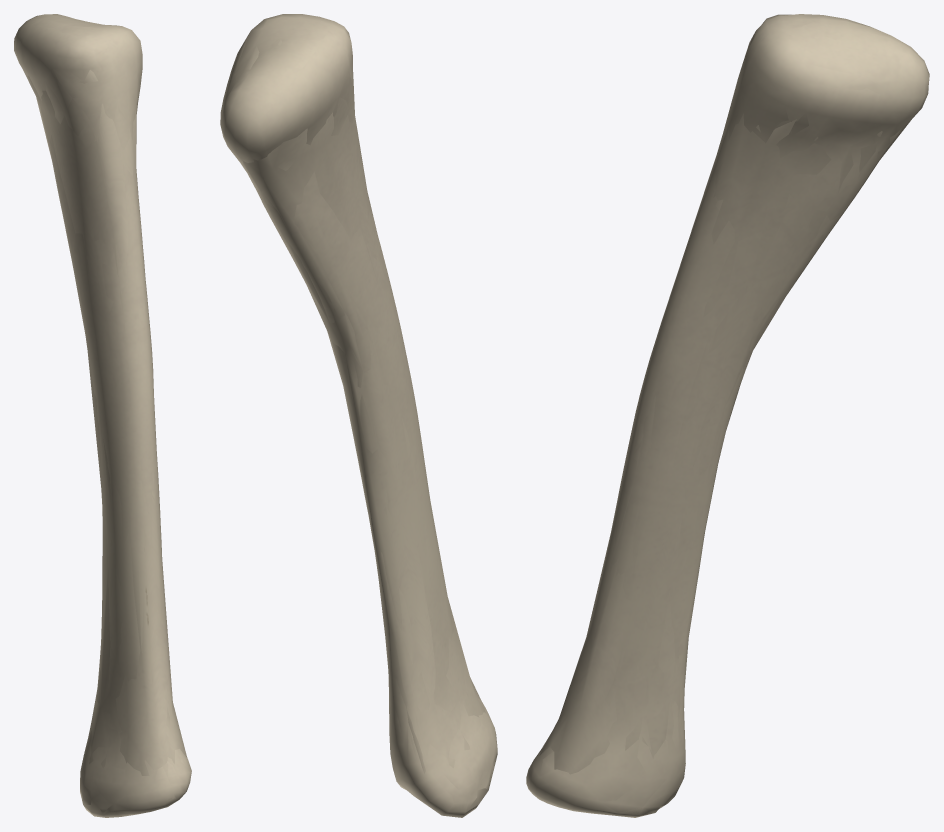
Rendered from R metacarpi tertium.fbx.
3 views of the same model, side by side, from view 1: azimuth 30°, elevation 25°; view 2: azimuth 150°, elevation 25°; view 3: azimuth 270°, elevation 25° (orthographic). The views are drawn at different scales.
Parts seen in each view (by area): view 1: R metacarpi tertium, R metacarpi tertium low, R metacarpi tertium high; view 2: R metacarpi tertium, R metacarpi tertium low, R metacarpi tertium high; view 3: R metacarpi tertium, R metacarpi tertium low, R metacarpi tertium high.
Part boxes in pixels (bbox=[...]): R metacarpi tertium: bbox=[14, 14, 191, 817]; R metacarpi tertium low: bbox=[22, 19, 187, 814]; R metacarpi tertium high: bbox=[14, 14, 189, 816]; R metacarpi tertium: bbox=[220, 14, 497, 817]; R metacarpi tertium low: bbox=[241, 39, 485, 784]; R metacarpi tertium high: bbox=[221, 14, 497, 816]; R metacarpi tertium: bbox=[526, 14, 929, 817]; R metacarpi tertium low: bbox=[539, 32, 910, 774]; R metacarpi tertium high: bbox=[526, 14, 927, 816].
Bounding box in the file's own units: 2.25 × 12.46 × 5.53.
Materials: 1 (1 with a texture image).
